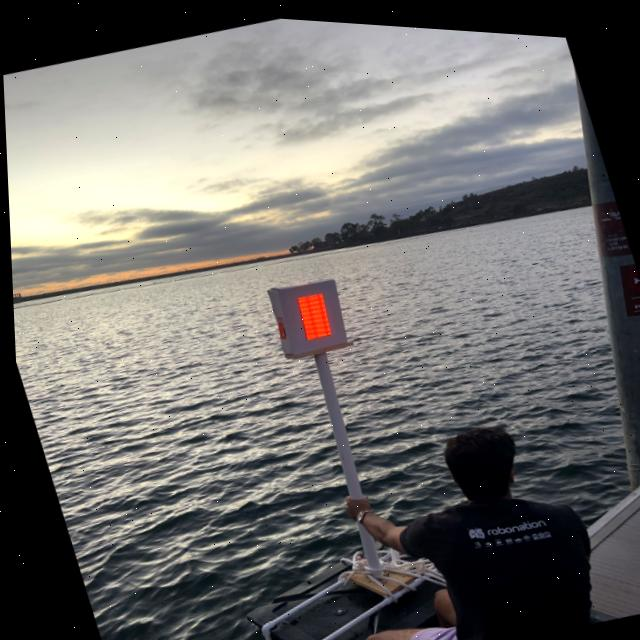led: (274, 273, 352, 353)
